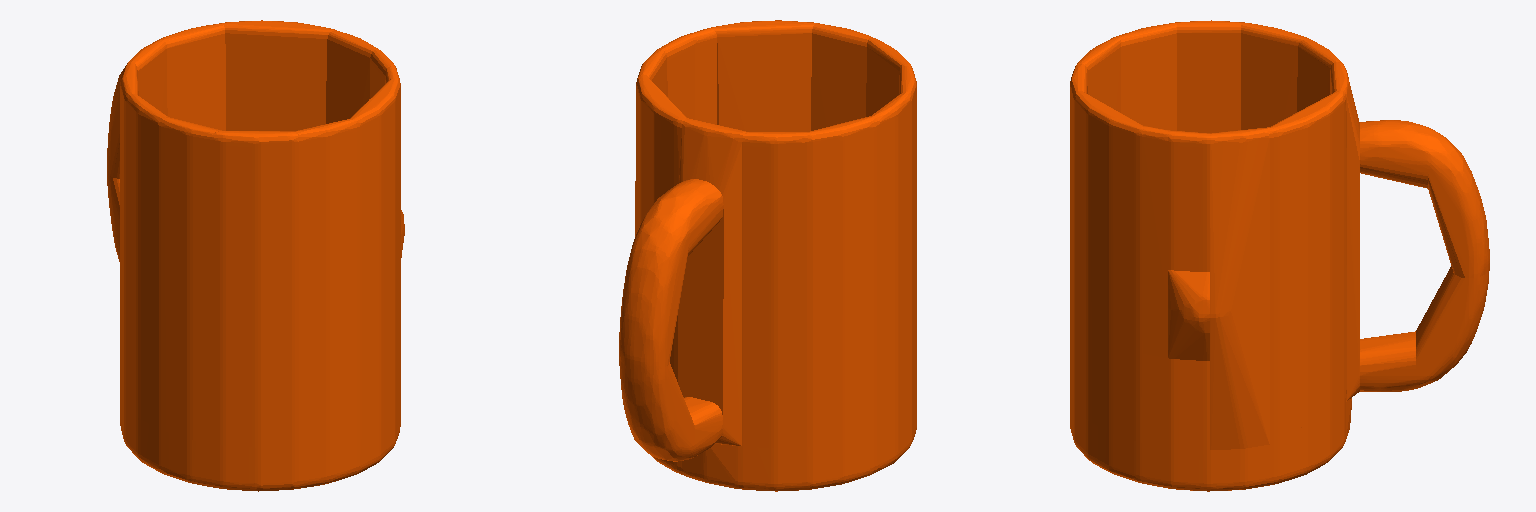
URDF robot description (design):
<?xml version="1.0"?>
<robot name="design">
  <material name="obj_color">
      <color rgba="1.0 0.423529411765 0.0392156862745 1.0"/>
  </material>
  <link name="base">
    <visual>
      <origin xyz="0.0 0.0 0.0"/>
      <geometry>
        <mesh filename="model_align.obj" scale="1 1 1"/>
      </geometry>
      <material name="obj_color"/>
    </visual>
    <collision>
      <origin xyz="0.0 0.0 0.0"/>
      <geometry>
        <mesh filename="model_align.obj" scale="1 1 1"/>
      </geometry>
    </collision>
  </link>
</robot>

--- Facts derived from the render (not from the file) ---
3 views of the same robot in one strip: view 1: azimuth 30°, elevation 25°; view 2: azimuth 150°, elevation 25°; view 3: azimuth 270°, elevation 25° (orthographic).
Robot: design — 1 links, 0 joints (none); root link base; default pose: every joint at zero.
Links seen in each view (by area): view 1: base; view 2: base; view 3: base.
Boxes of the visible links, x1,y1,x2,y2 form: base: (107,20,404,491); base: (619,20,916,491); base: (1070,20,1489,491).
Bounding box of the posed robot: 0.0823 × 0.1157 × 0.1088 m (x, y, z).
1 mesh visuals loaded from 1 distinct referenced files (1 OBJ).
